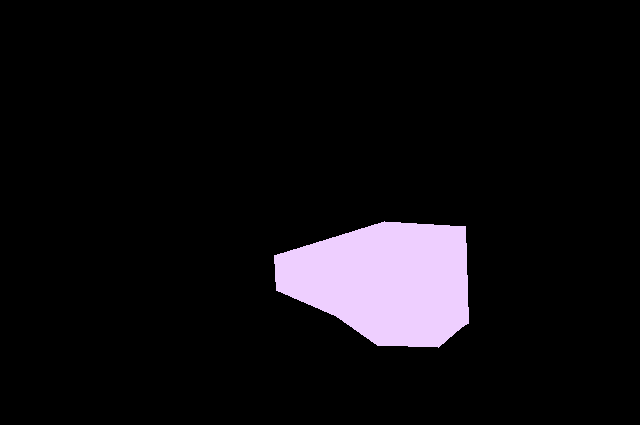Train: (274, 221, 469, 348)
